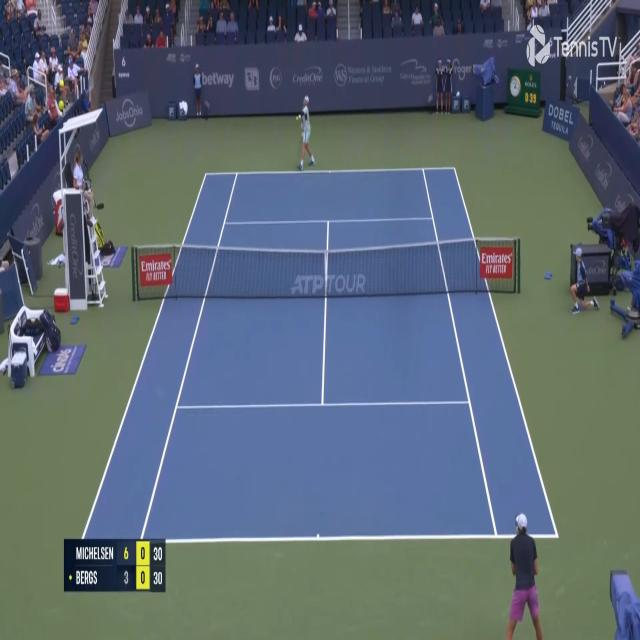tennis-player: (501, 508, 548, 639), (293, 95, 317, 172)
